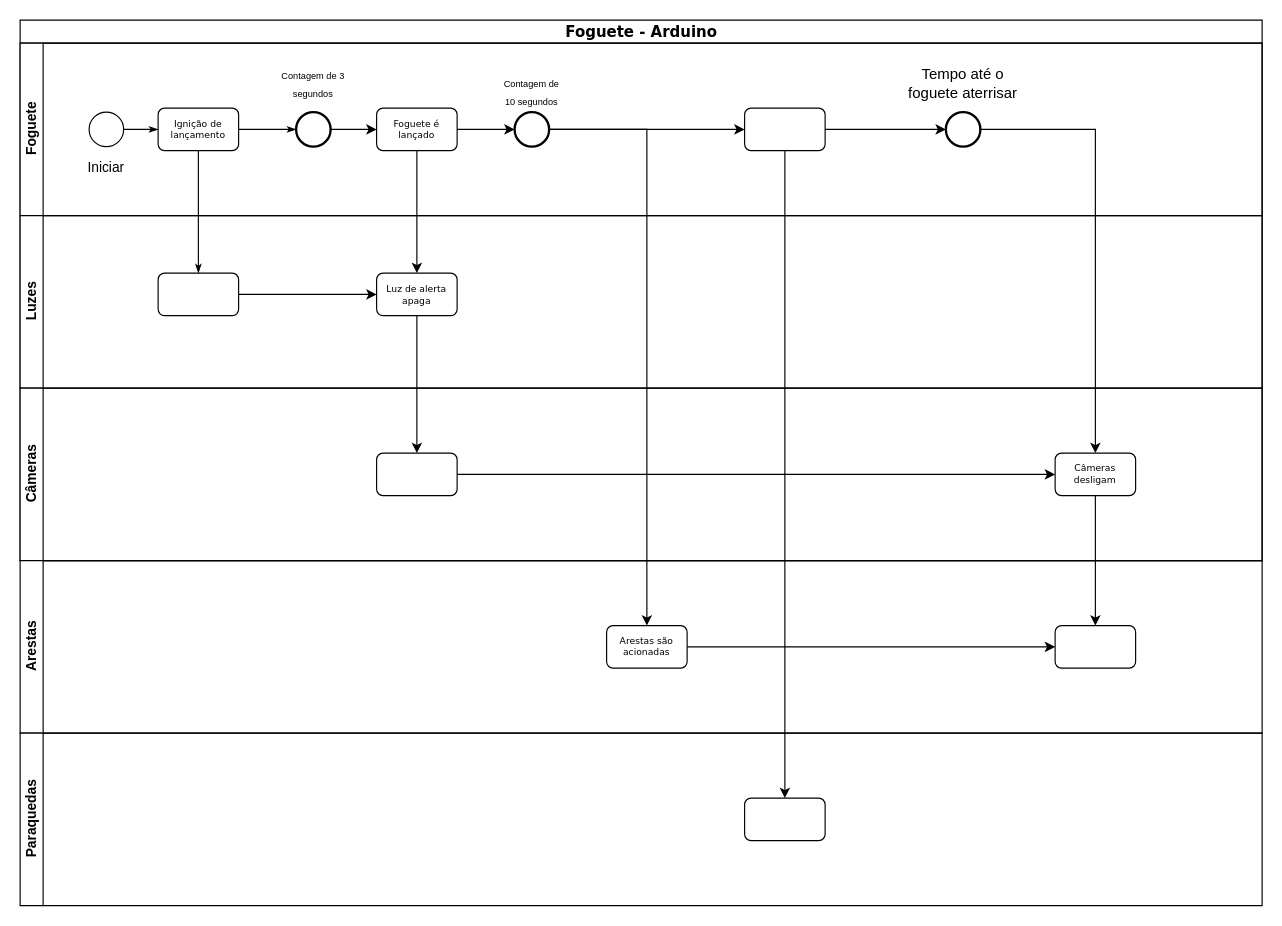
This 1282x926 diagram has some shape labels left out. Here are the shapes that lost their labels. From the top down, the centre of each, then its label:
At point (784, 129): "Medidor de altitude atingiu 40m".
At point (198, 294): "Luz de alerta acende".
At point (416, 474): "Câmeras acionam".
At point (1095, 646): "Arestas fecham".
At point (784, 819): "Paraquedas acionado".
